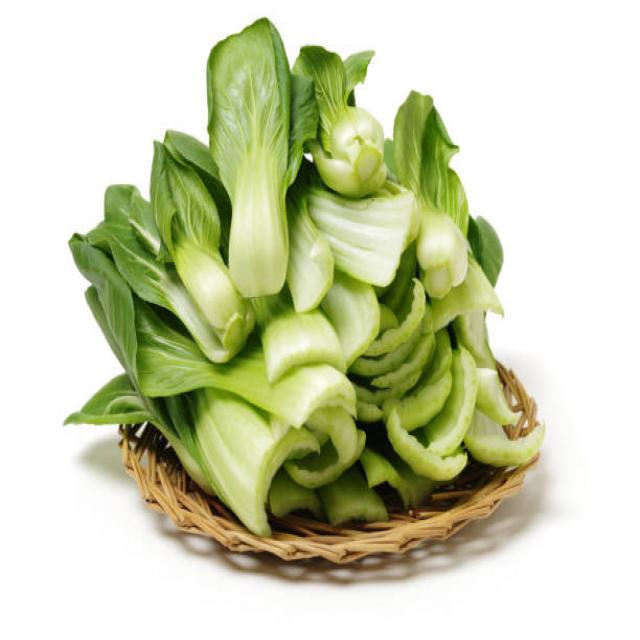Bok Choy: (208, 38, 286, 287), (116, 159, 207, 361), (404, 112, 482, 294), (307, 41, 370, 200)
